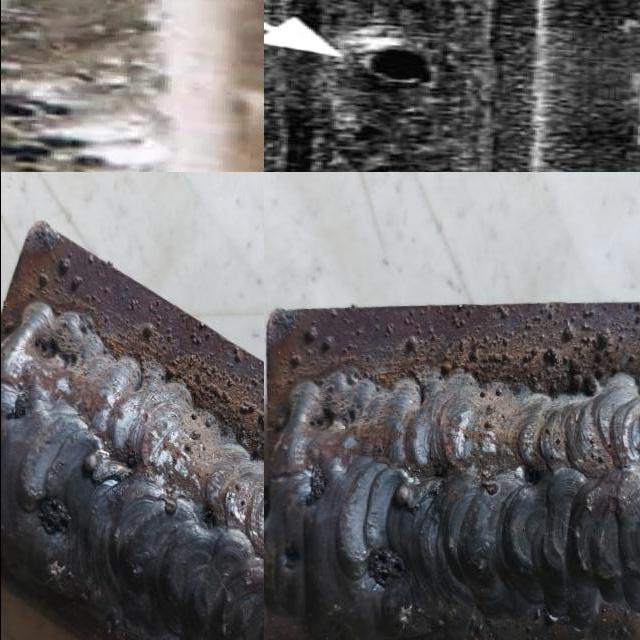defect: (0, 93, 165, 172), (347, 46, 442, 89), (363, 543, 404, 592), (33, 488, 74, 537), (71, 67, 129, 96), (306, 404, 358, 434), (298, 462, 329, 509), (4, 384, 32, 424), (524, 463, 547, 494), (282, 538, 300, 571), (202, 505, 218, 529)
